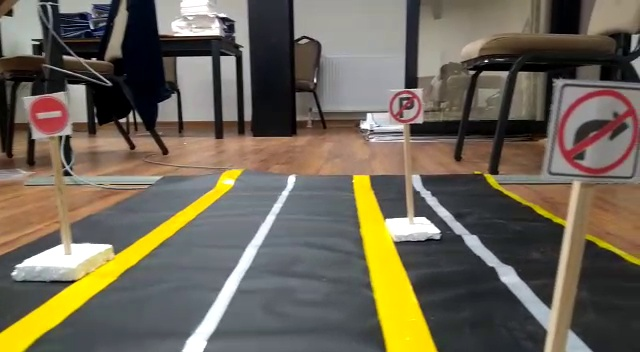girisi_olmayan_yol: (26, 93, 74, 135)
park_yapilmaz: (388, 88, 423, 124)
saga_donulmez: (556, 79, 637, 180)
